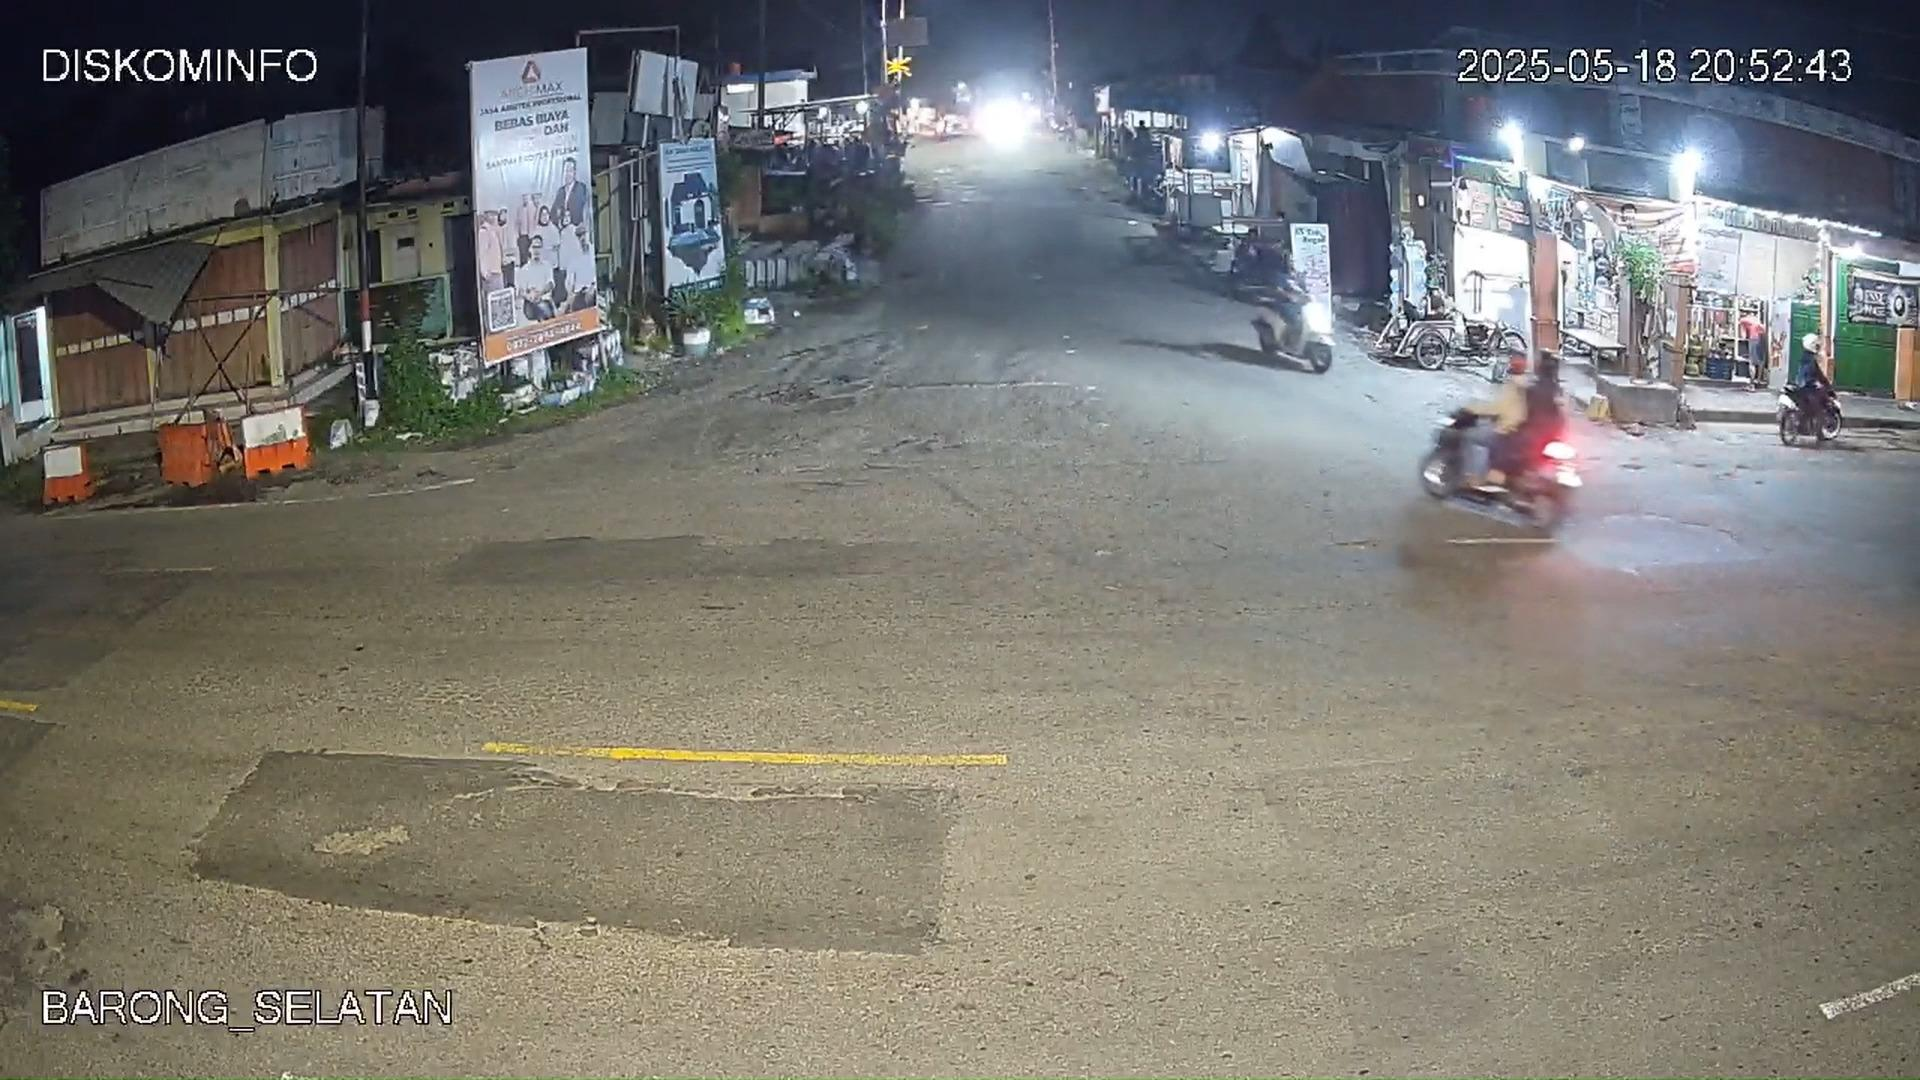Motor: (1422, 351, 1575, 527), (1241, 241, 1324, 367), (1783, 330, 1840, 442)
